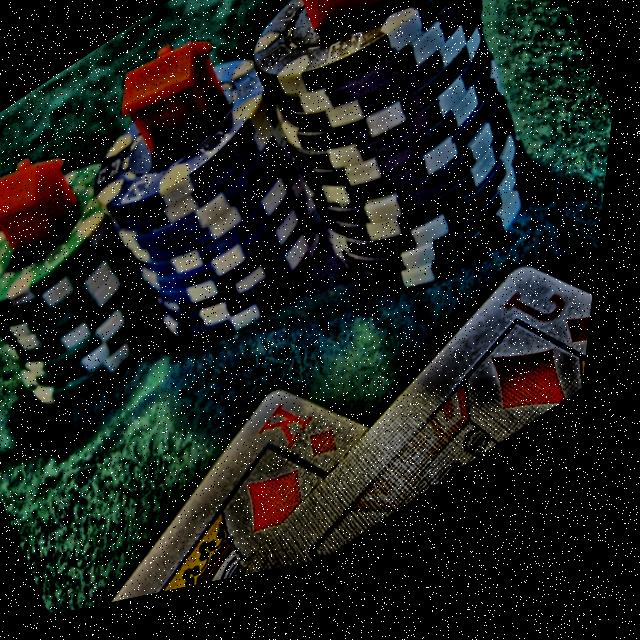Chip: (201, 0, 609, 383), (58, 17, 394, 411), (0, 129, 208, 456)
